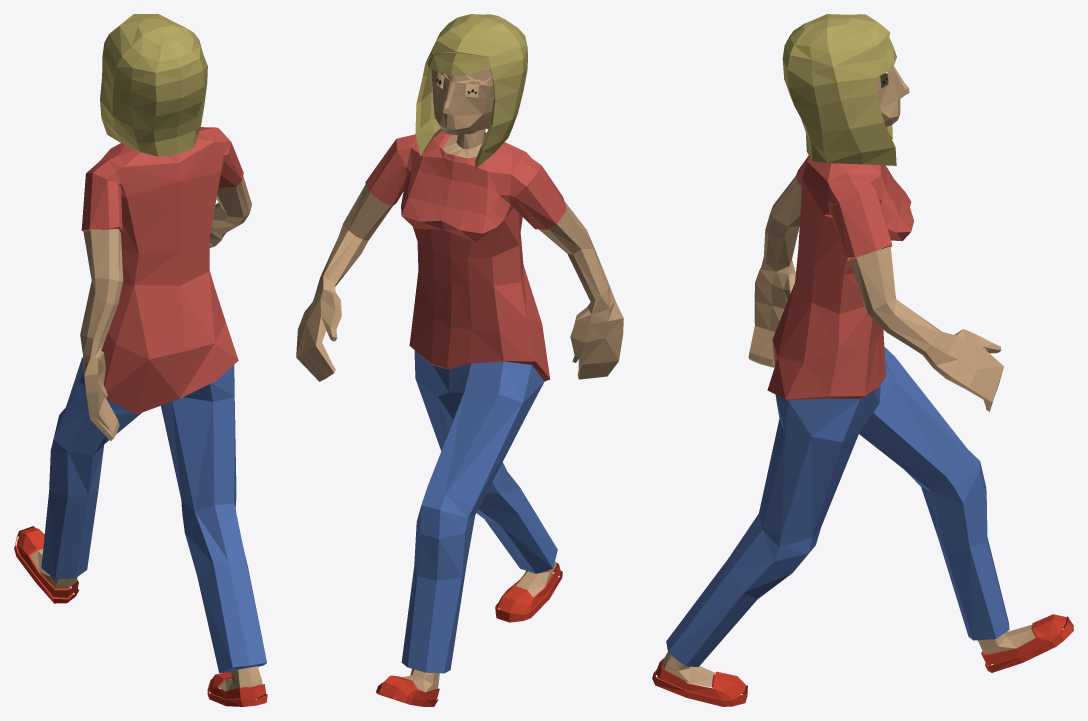
Rendered from person_6_w1.fbx.
The picture shows the model from 3 angles, left to right: view 1: azimuth 30°, elevation 25°; view 2: azimuth 150°, elevation 25°; view 3: azimuth 270°, elevation 25°; orthographic projection. The views are drawn at different scales.
Visible parts, largest first — view 1: Woman; view 2: Woman; view 3: Woman.
Boxes of the visible parts, left/top/right/bottom form: Woman: left=14, top=14, right=267, bottom=706; Woman: left=296, top=14, right=623, bottom=706; Woman: left=652, top=14, right=1073, bottom=706.
Bounding box in the file's own units: 0.3746 × 1 × 0.5701.
